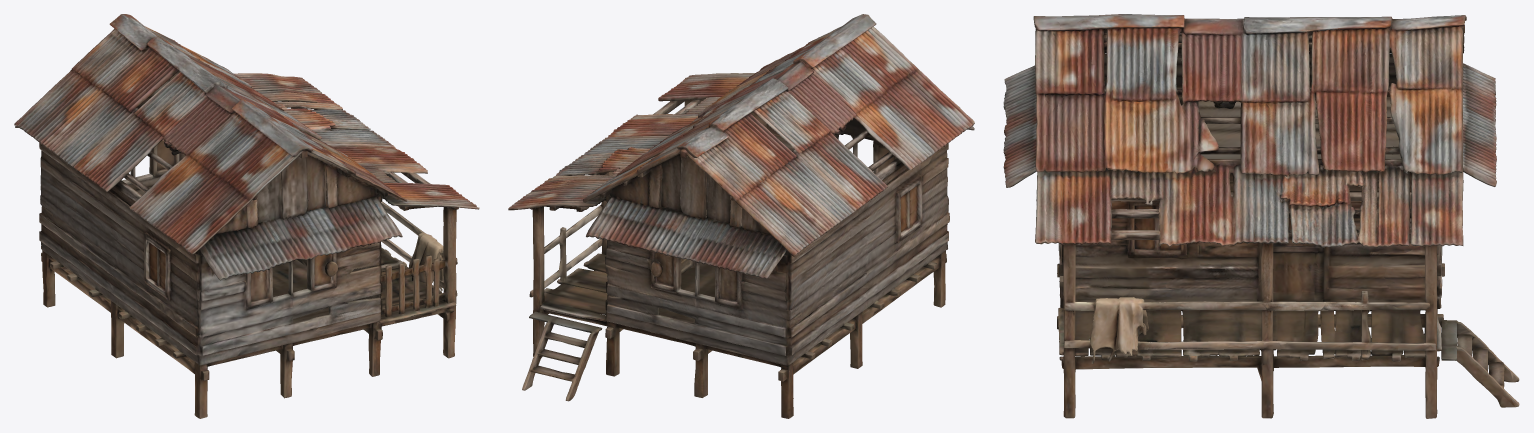
The model's file is jungle_house_3d_model_free.glb.
3 views of the same model, side by side, from view 1: azimuth 30°, elevation 25°; view 2: azimuth 150°, elevation 25°; view 3: azimuth 270°, elevation 25° (orthographic). The views are drawn at different scales.
Visible parts, largest first — view 1: tripo_node_2ab5dc92-5b32-4638-b4f4-4ac771f6c5ef_0; view 2: tripo_node_2ab5dc92-5b32-4638-b4f4-4ac771f6c5ef_0; view 3: tripo_node_2ab5dc92-5b32-4638-b4f4-4ac771f6c5ef_0.
Part boxes in pixels (x1=…): tripo_node_2ab5dc92-5b32-4638-b4f4-4ac771f6c5ef_0: x1=14, y1=14, x2=479, y2=418; tripo_node_2ab5dc92-5b32-4638-b4f4-4ac771f6c5ef_0: x1=508, y1=14, x2=974, y2=418; tripo_node_2ab5dc92-5b32-4638-b4f4-4ac771f6c5ef_0: x1=1003, y1=14, x2=1519, y2=418.
Size of the model in its own units: 0.7706 by 0.6675 by 1.
1 material, 1 textured.
